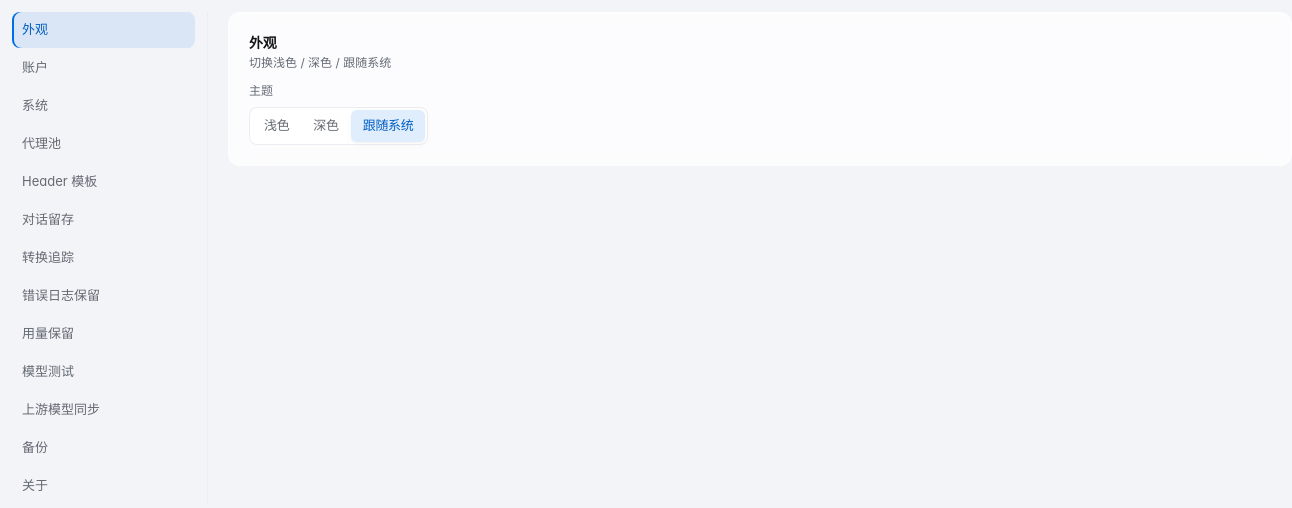
Test case: <SettingsPage /> TesterSection 分组模型测试 › 分组无成员：黄色提示
Step 1. Click the button "模型测试" → (104, 372), box top-left (12, 354), bottom-right (195, 390)
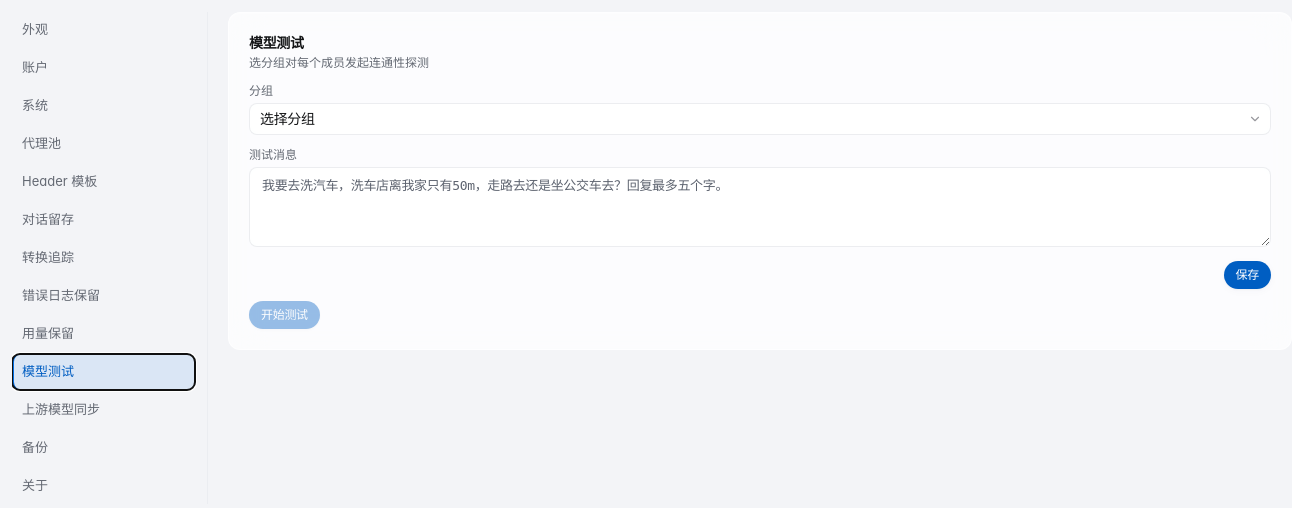
Step 2. Select "default" in the dropdown labelled "分组" → (760, 119), box top-left (249, 103), bottom-right (1271, 135)
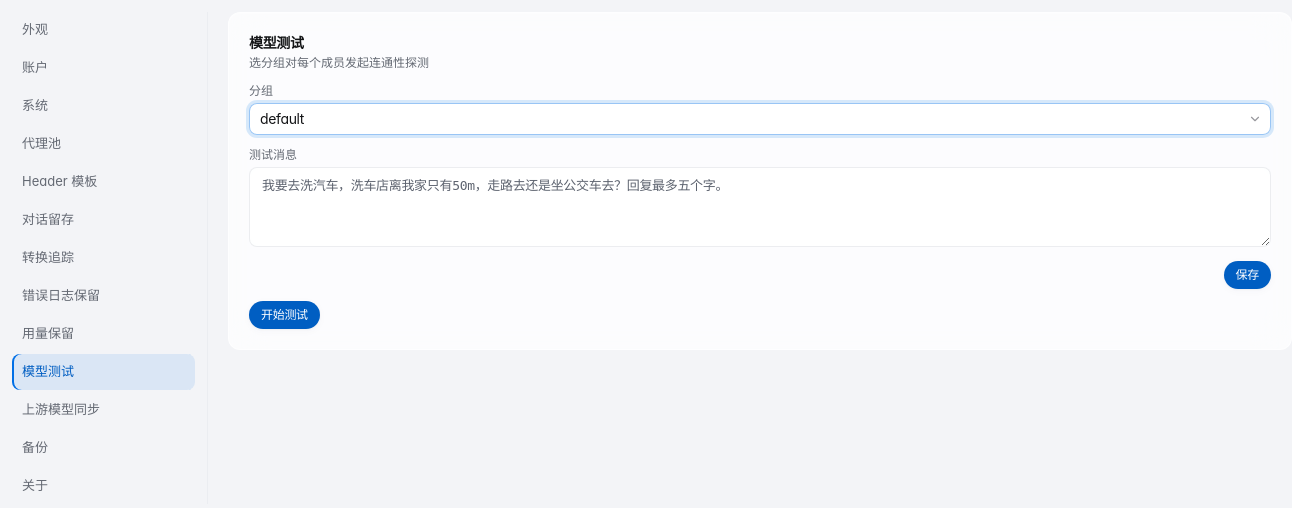
Step 3. Click the button "开始测试" → (284, 315), box top-left (249, 301), bottom-right (320, 329)
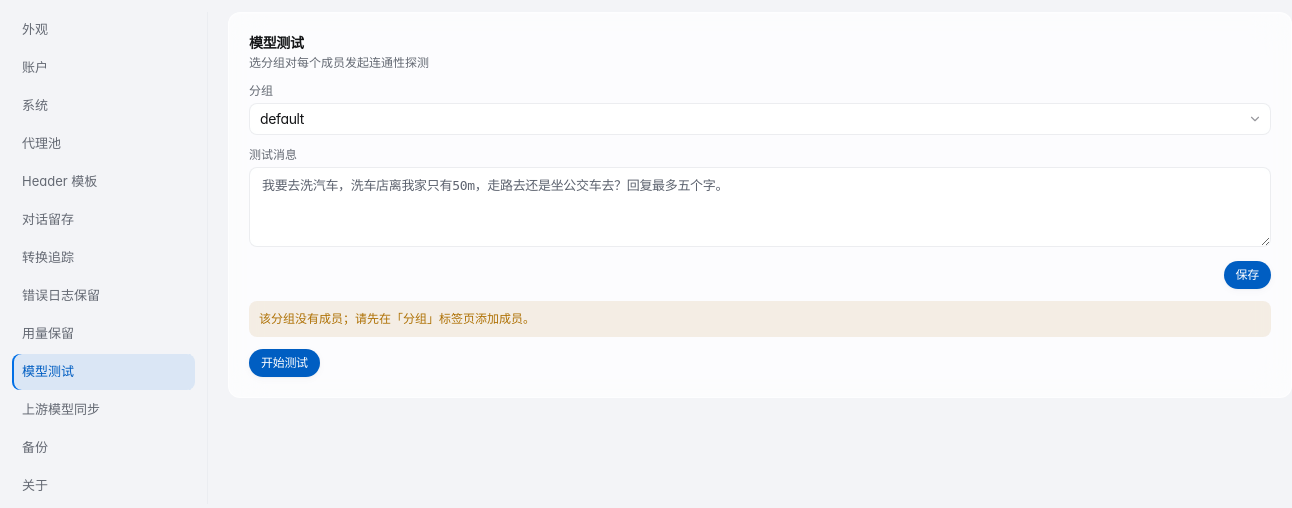
Expected: the text "该分组没有成员；请先在「分组」标签页添加成员。" is shown, top-left (249, 301), bottom-right (1271, 337)
